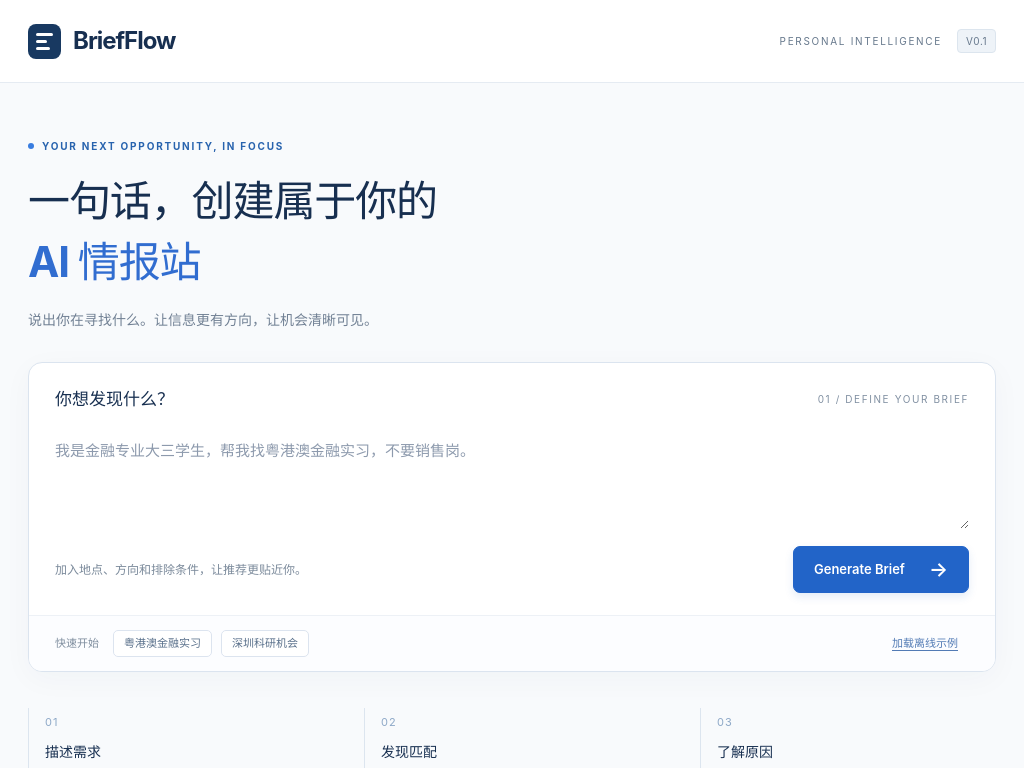
Web MVP › labels non-mock API results without a mock banner
Click the button "粤港澳金融实习" at (162, 643), box [113,630,212,657]
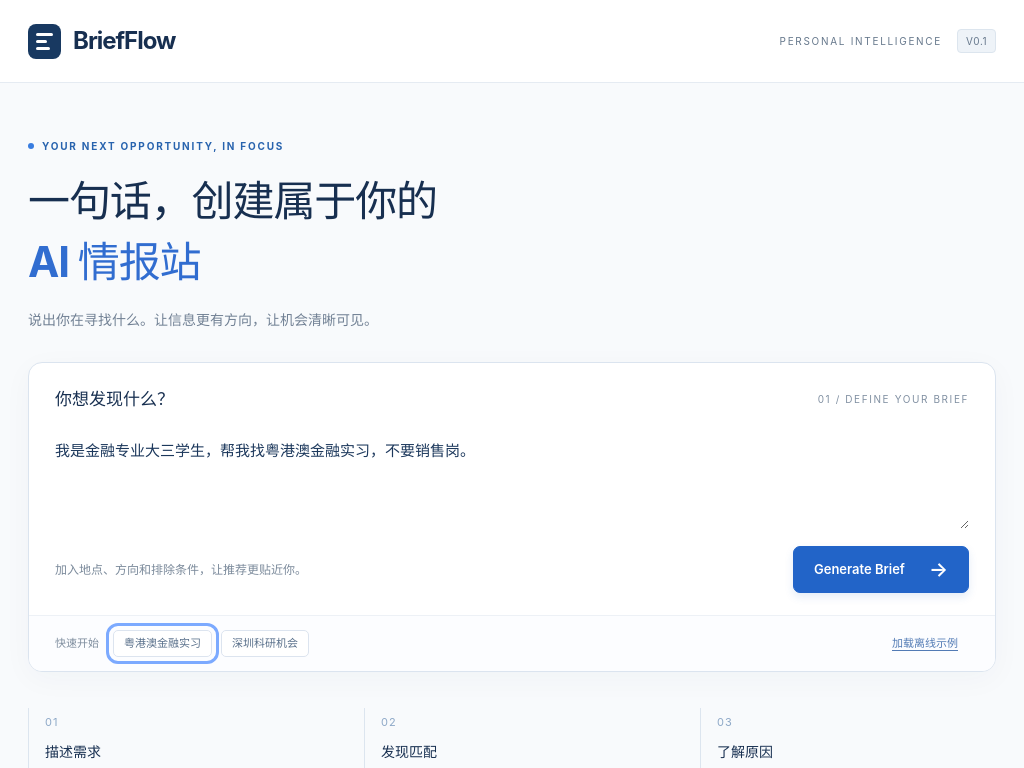
Click the button "Generate Brief →" at (881, 569), box [793,546,969,593]
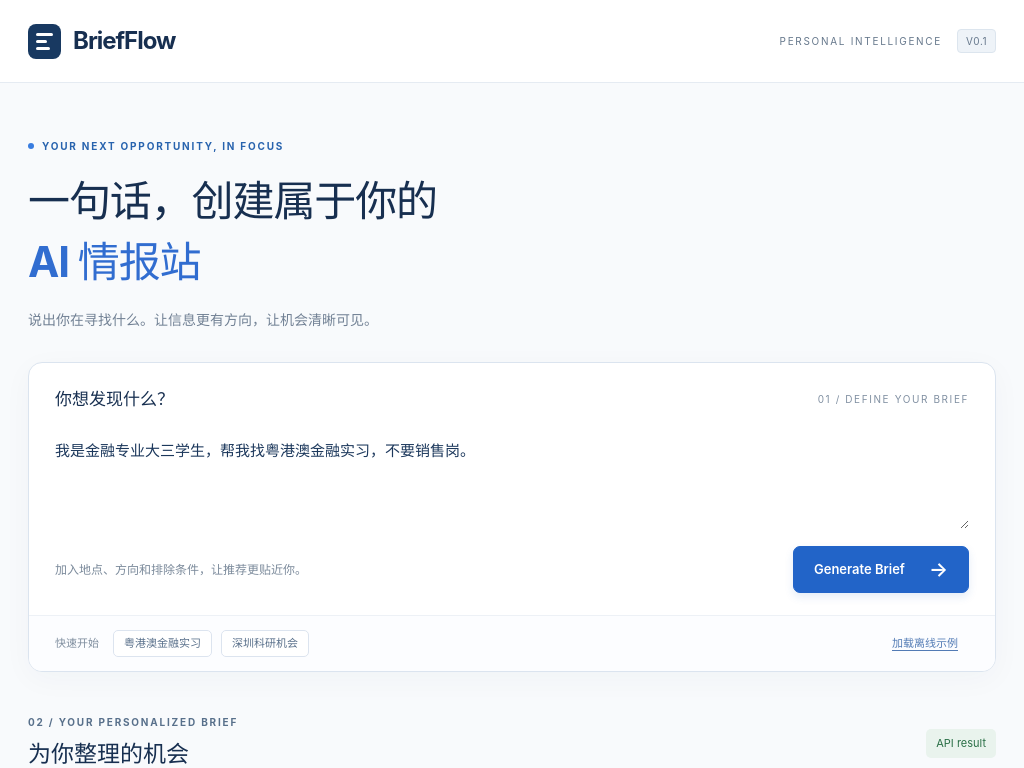
Expected: the text "API result" is shown, [926,729,996,758]
